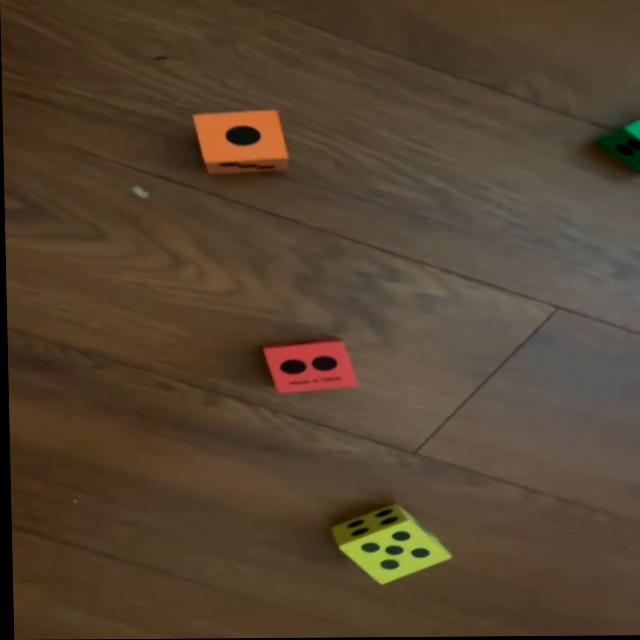red_block: (261, 339, 358, 395)
